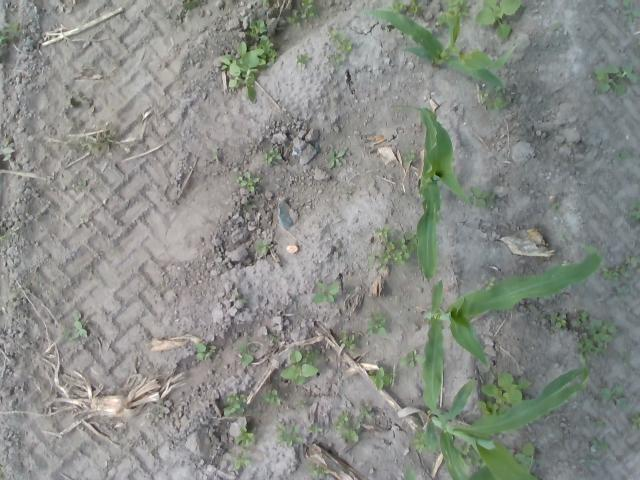Maize: (420, 236, 602, 430), (422, 367, 592, 480), (358, 0, 517, 92), (390, 103, 470, 282), (403, 463, 498, 480)
Weeds: (218, 41, 266, 102), (475, 372, 531, 416), (367, 226, 419, 270), (473, 0, 522, 38), (591, 61, 640, 97), (578, 319, 618, 358), (280, 348, 318, 385), (248, 18, 278, 63), (328, 28, 353, 71), (434, 0, 470, 29), (602, 256, 640, 280), (286, 0, 318, 28), (334, 412, 362, 442), (456, 440, 486, 468), (62, 310, 88, 341), (476, 86, 508, 111), (466, 185, 496, 210), (366, 365, 394, 391), (597, 386, 628, 409), (514, 441, 536, 473), (81, 132, 115, 152), (312, 282, 340, 304), (232, 170, 260, 192), (275, 424, 302, 446), (364, 313, 388, 336), (386, 0, 419, 16), (0, 21, 21, 46), (233, 426, 256, 448), (398, 348, 426, 366), (412, 425, 428, 454), (224, 394, 246, 414), (621, 0, 640, 23), (236, 341, 253, 366), (194, 342, 216, 359), (308, 462, 329, 479), (264, 148, 284, 165), (233, 450, 250, 469), (262, 388, 282, 404), (328, 150, 344, 168), (341, 331, 356, 350), (628, 200, 640, 222), (547, 313, 567, 326), (574, 310, 590, 326), (590, 438, 608, 452), (628, 410, 640, 430), (296, 53, 310, 68), (255, 240, 270, 254), (182, 0, 200, 11), (402, 150, 416, 164), (616, 150, 632, 162), (483, 276, 495, 290), (306, 424, 322, 434), (76, 180, 86, 191), (211, 147, 219, 160), (591, 420, 604, 428), (551, 22, 562, 31), (296, 400, 306, 409), (526, 303, 536, 311), (632, 38, 640, 48), (268, 333, 276, 342), (550, 201, 558, 210), (621, 352, 631, 359), (165, 11, 174, 16), (0, 235, 6, 241), (239, 298, 248, 302), (0, 463, 2, 480), (262, 0, 268, 3)
